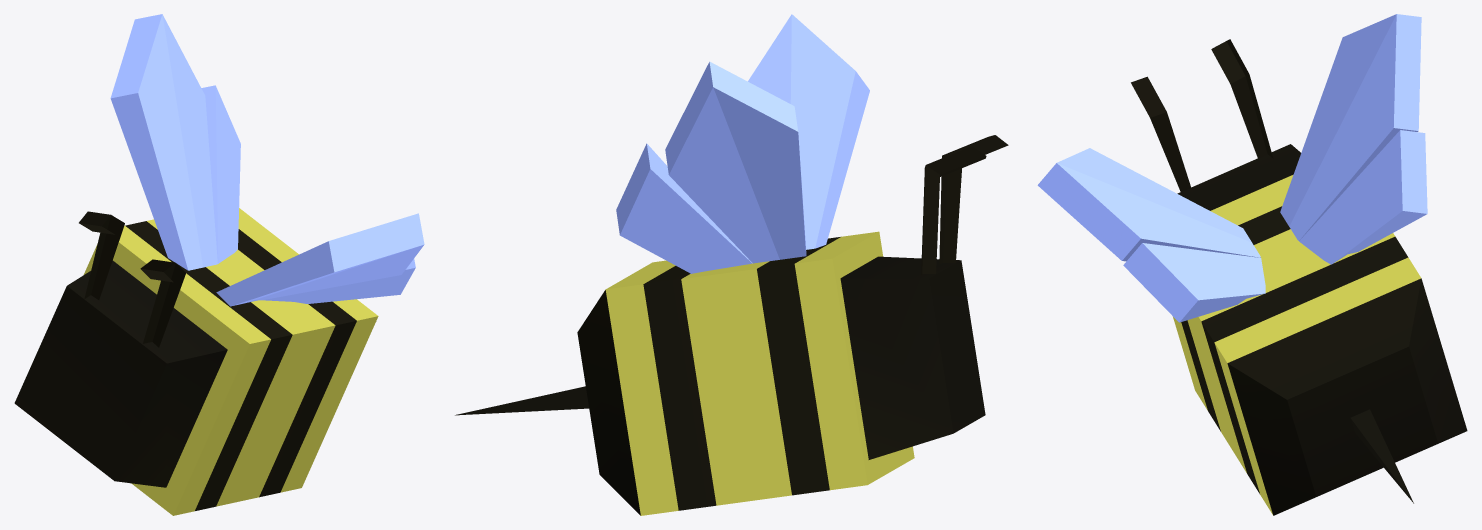
The model's file is Bee-2_TecnicalStackIsland.glb.
3 renders of one model, left to right at view 1: azimuth 30°, elevation 25°; view 2: azimuth 150°, elevation 25°; view 3: azimuth 270°, elevation 25°, orthographic. The views are drawn at different scales.
Parts seen in each view (by area): view 1: Bee_2; view 2: Bee_2; view 3: Bee_2.
Part boxes in pixels (bbox=[...]): Bee_2: bbox=[14, 14, 424, 515]; Bee_2: bbox=[455, 14, 1008, 515]; Bee_2: bbox=[1037, 14, 1467, 515].
Size of the model in its own units: 0.2602 by 0.2744 by 0.2315.
1 material, 1 textured.
